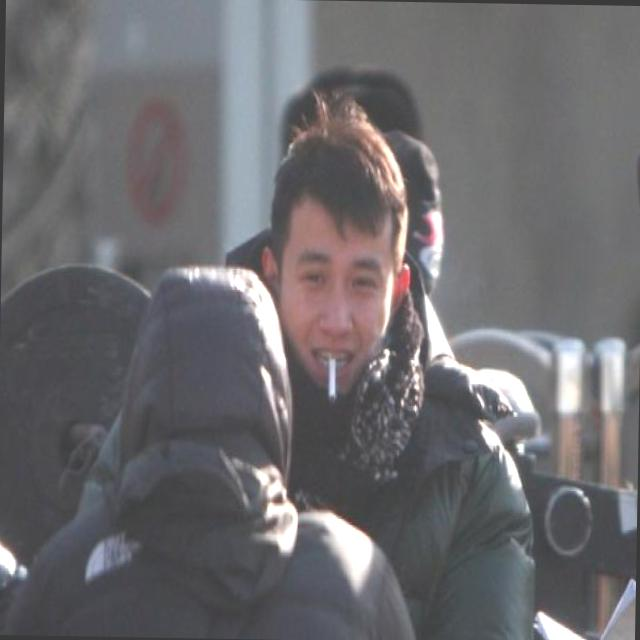cigarette: (322, 354, 340, 404)
